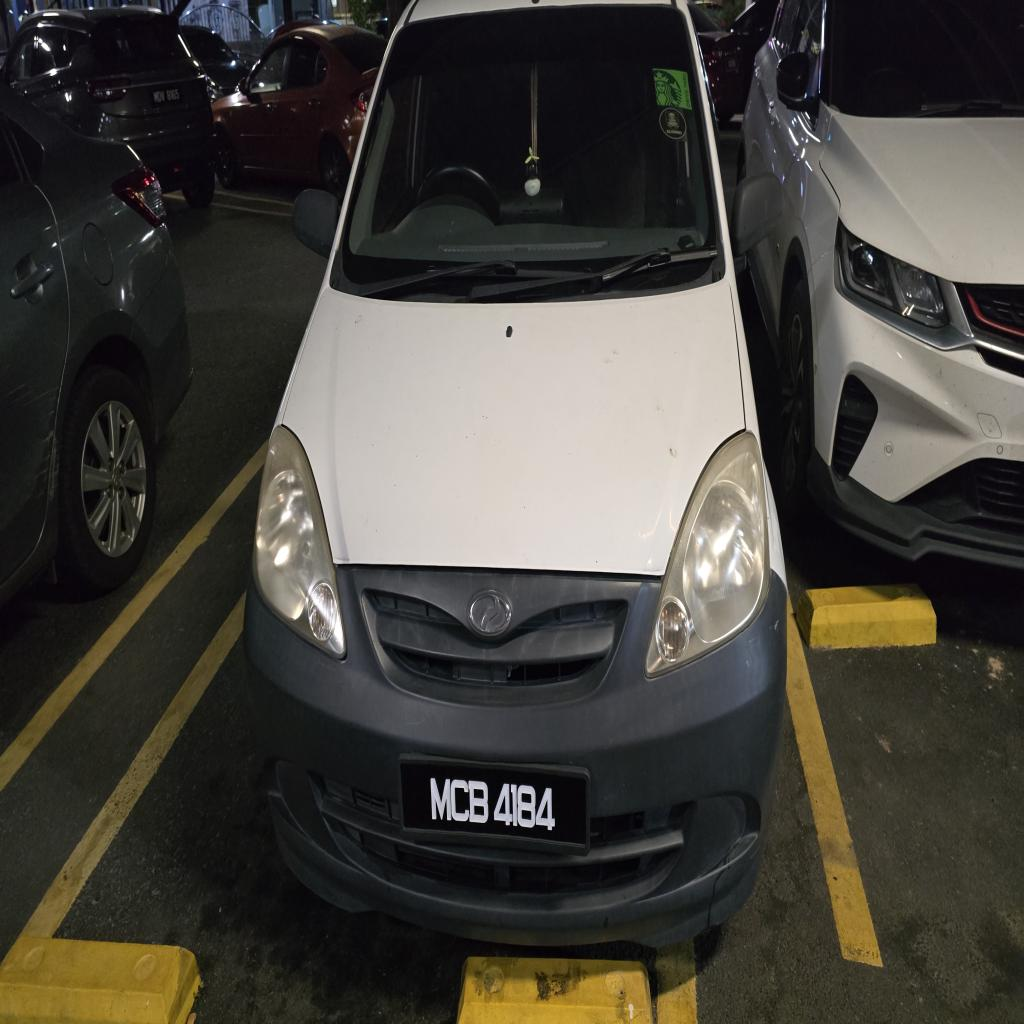car: (244, 0, 786, 945)
car plate: (399, 757, 589, 848)
